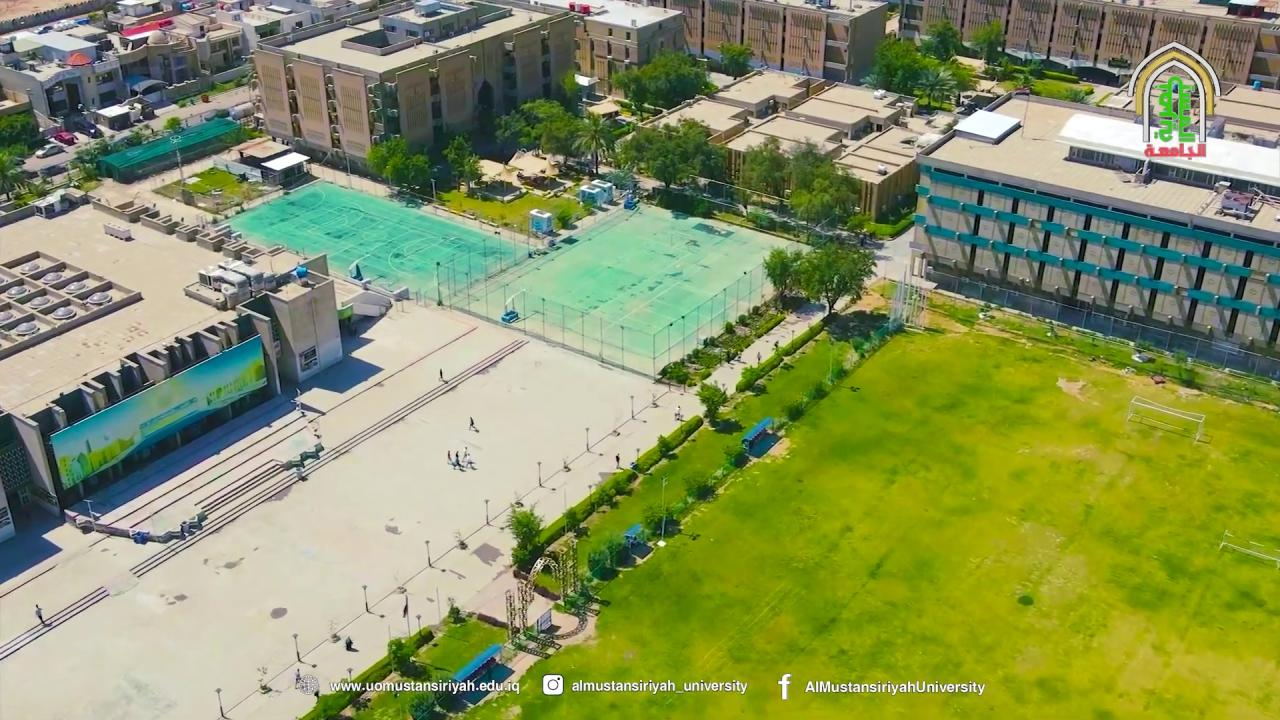car: (34, 143, 67, 158), (51, 131, 78, 145)
person: (462, 447, 476, 470), (34, 603, 45, 625), (453, 449, 462, 470), (468, 417, 478, 432), (294, 668, 301, 689), (345, 636, 354, 651), (446, 449, 453, 466), (674, 405, 681, 421), (438, 368, 445, 383), (615, 452, 620, 468), (756, 350, 761, 366)
tree: (733, 135, 861, 232), (864, 31, 979, 112), (608, 45, 717, 113), (618, 117, 715, 189), (795, 240, 877, 315), (493, 97, 576, 159), (738, 136, 789, 206), (505, 556, 544, 642), (870, 33, 922, 94), (570, 109, 617, 176), (505, 501, 544, 575), (762, 244, 804, 312), (65, 137, 110, 192), (543, 540, 580, 604), (365, 133, 409, 184), (384, 150, 430, 197), (613, 128, 652, 181), (913, 66, 956, 111), (920, 18, 963, 61), (442, 133, 474, 188), (0, 140, 29, 200), (969, 17, 1004, 63), (694, 380, 728, 425), (718, 40, 754, 78), (680, 465, 714, 502), (459, 154, 483, 193), (562, 505, 583, 535), (722, 442, 742, 467), (656, 433, 673, 458)
